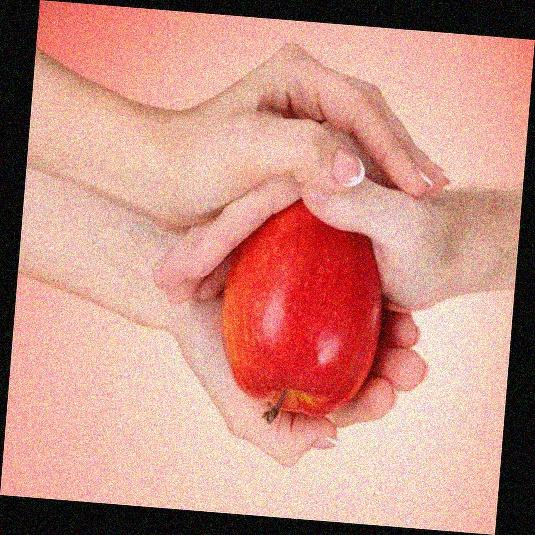red apple: (217, 197, 382, 415)
